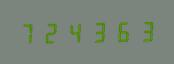four: (64, 20, 86, 44)
seven: (17, 21, 39, 44)
six: (110, 19, 132, 43)
three: (87, 20, 109, 43), (133, 19, 155, 42)
two: (40, 20, 62, 44)
